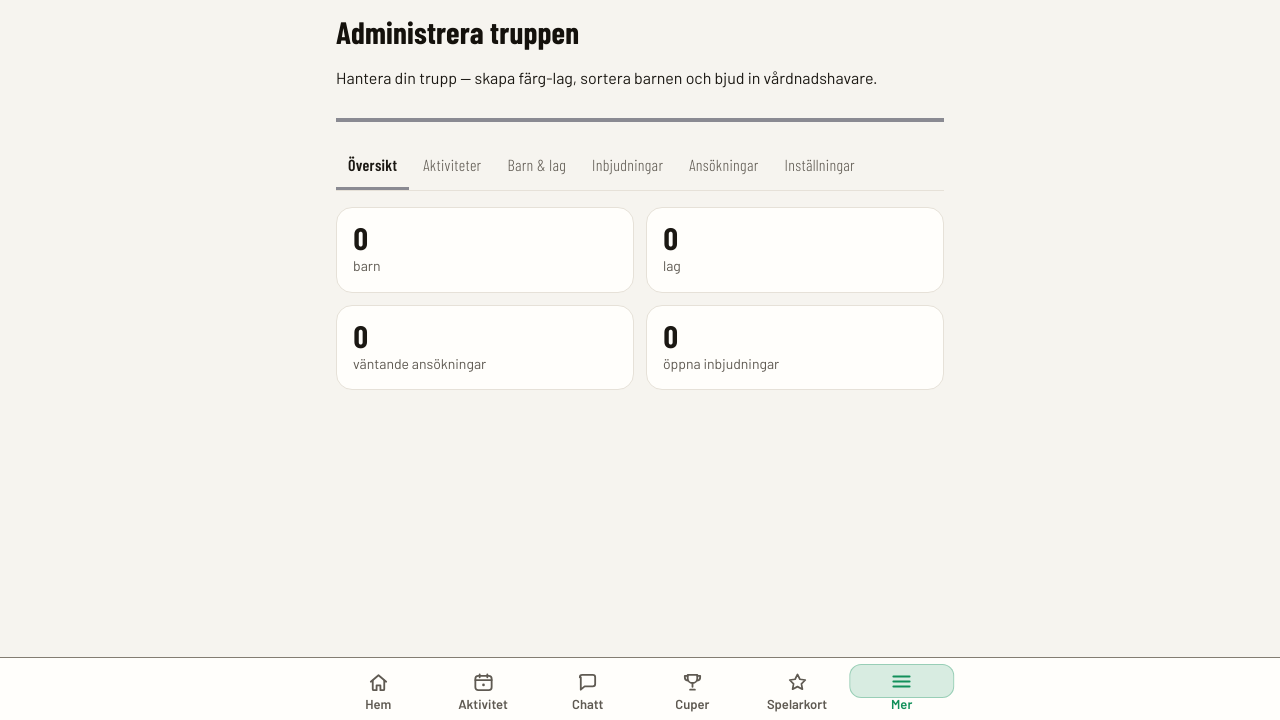
Test: Barn & lag › en tränare skapar ett färg-lag i Lag-vyn (#285)
This screenshot has width=1280, height=720.
Click the tab "Barn & lag" at [537, 166], box x1=496 y1=142 x2=578 y2=190
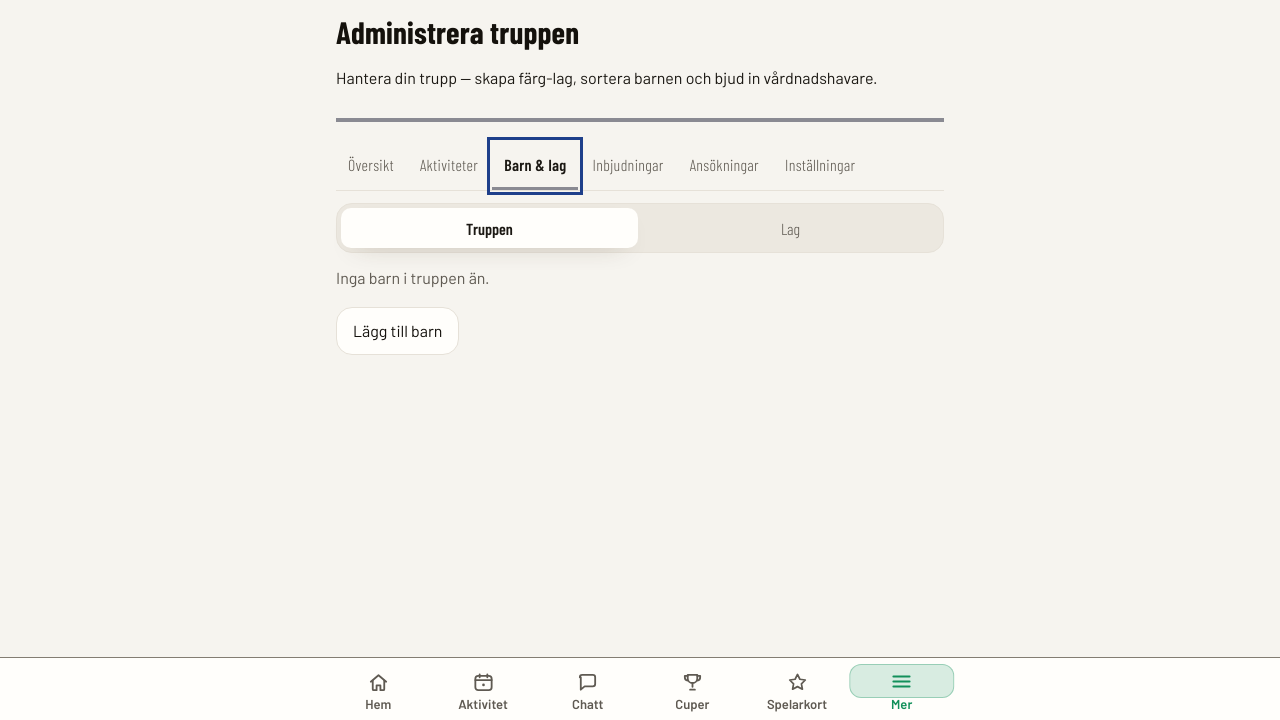
Click the button "Lag" at [790, 228], box x1=642 y1=208 x2=939 y2=248
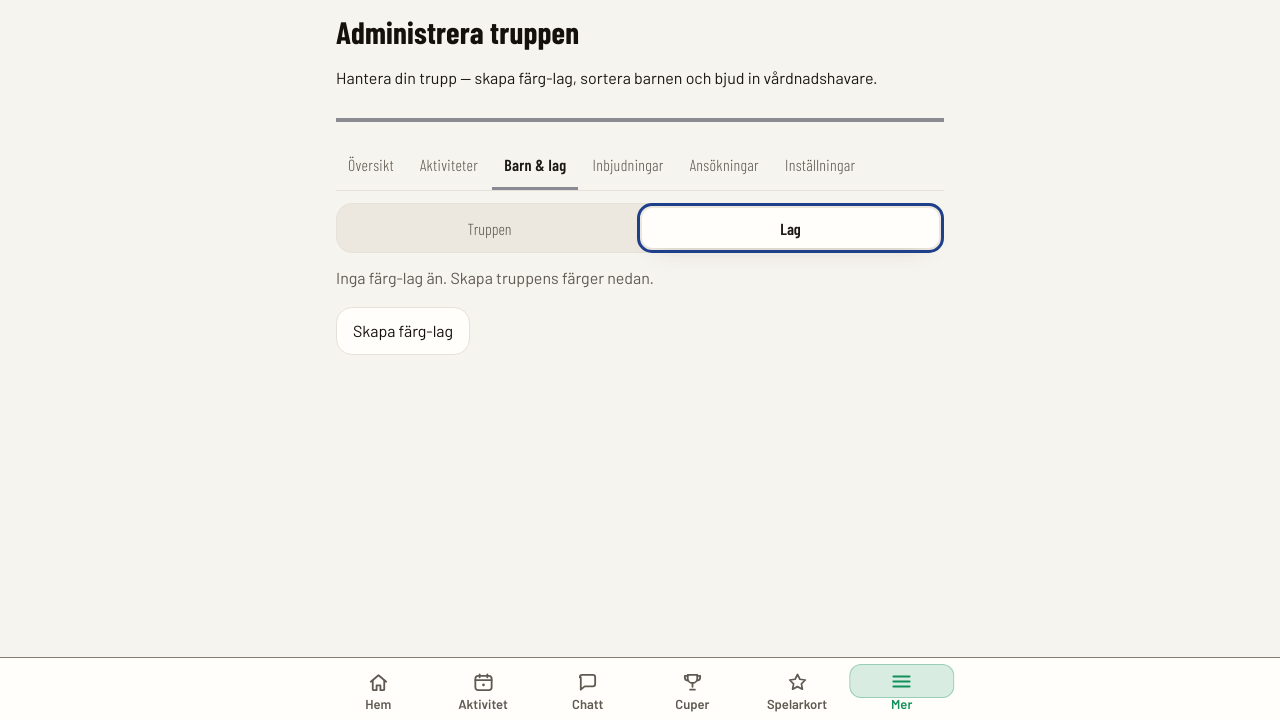
Click the button "Skapa färg-lag" at [403, 331], box x1=336 y1=307 x2=470 y2=355
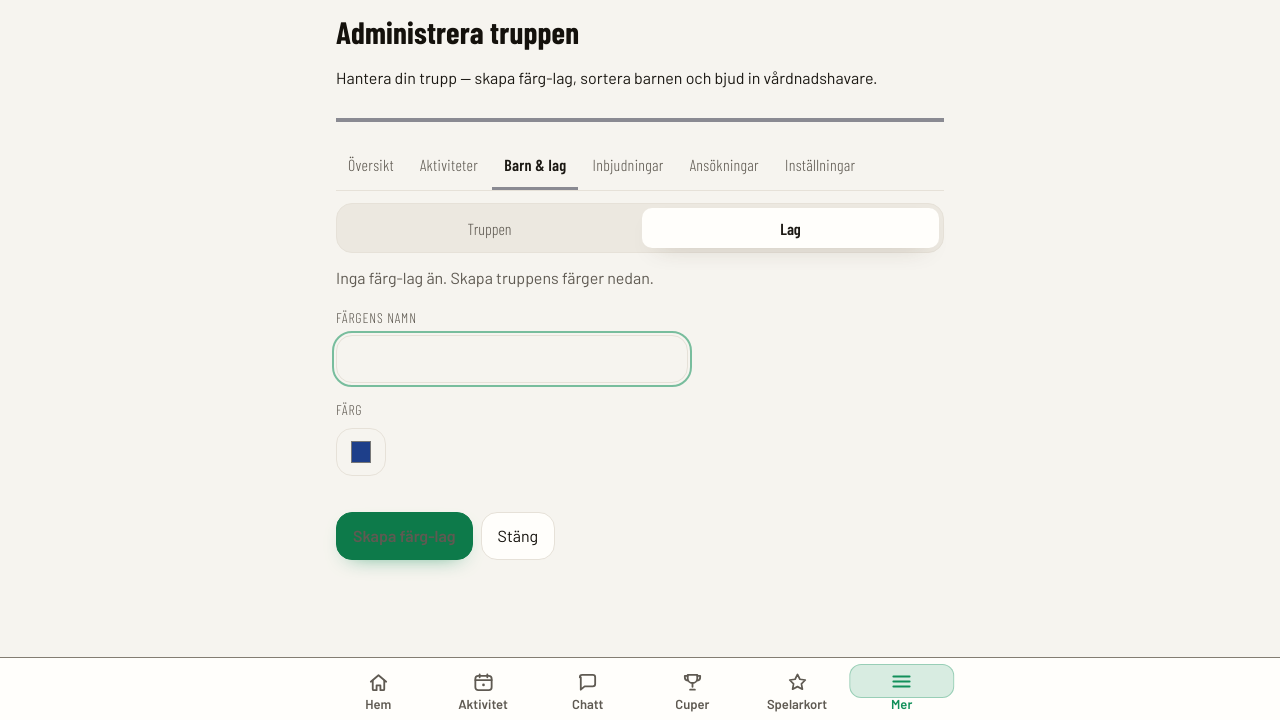
Type "Röd" into the field labelled "Färgens namn" at [512, 359], box x1=336 y1=335 x2=688 y2=383
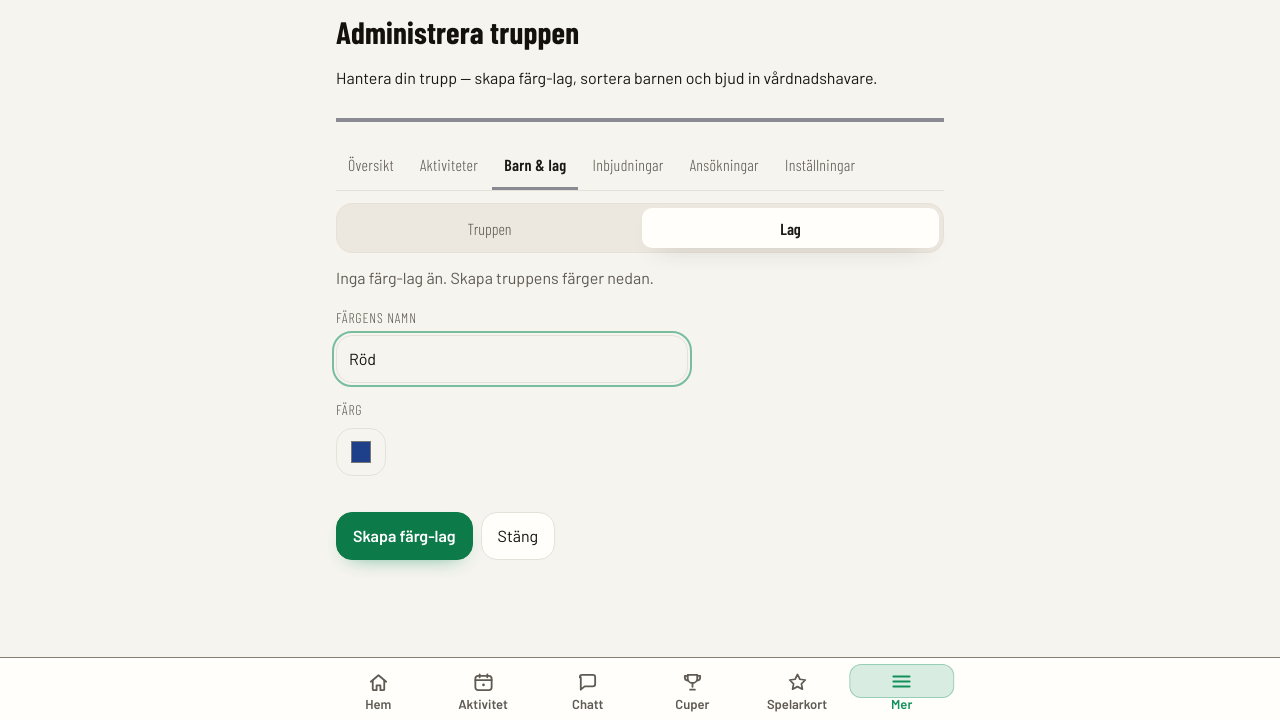
Click the button "Skapa färg-lag" at [404, 536], box x1=336 y1=512 x2=473 y2=560
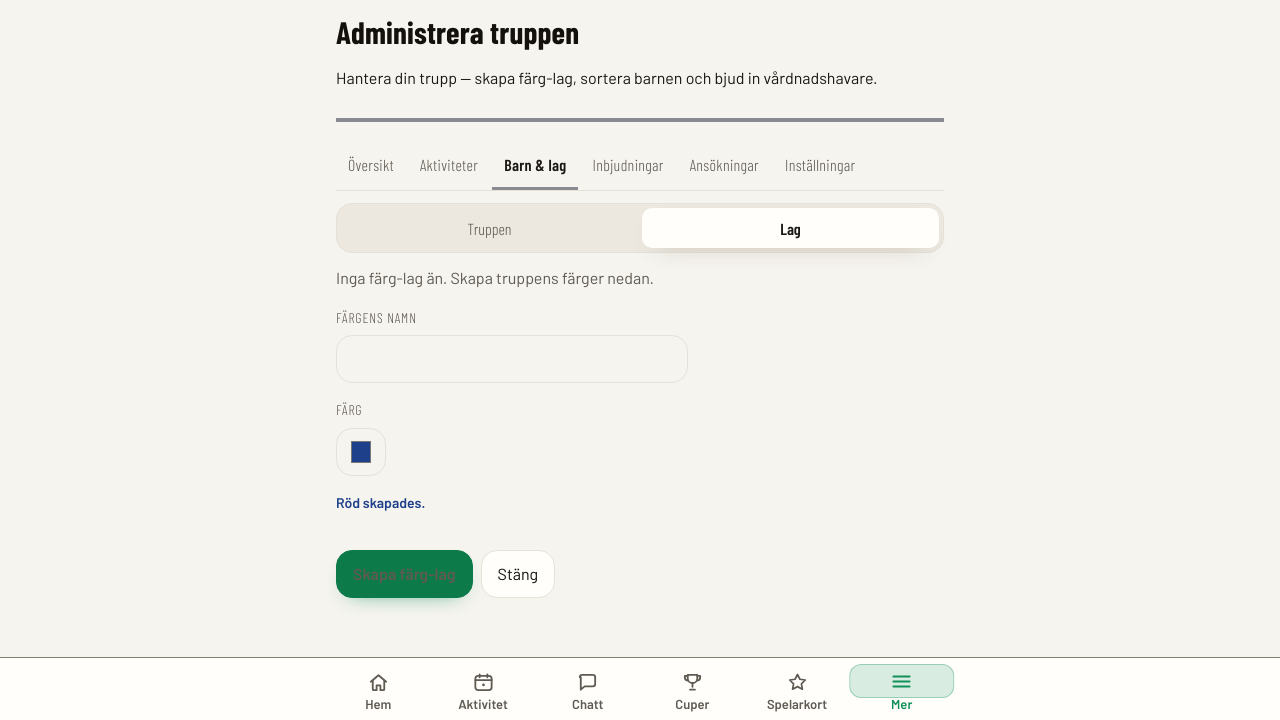
Now the text "Röd skapades." is shown, box x1=336 y1=492 x2=425 y2=514
